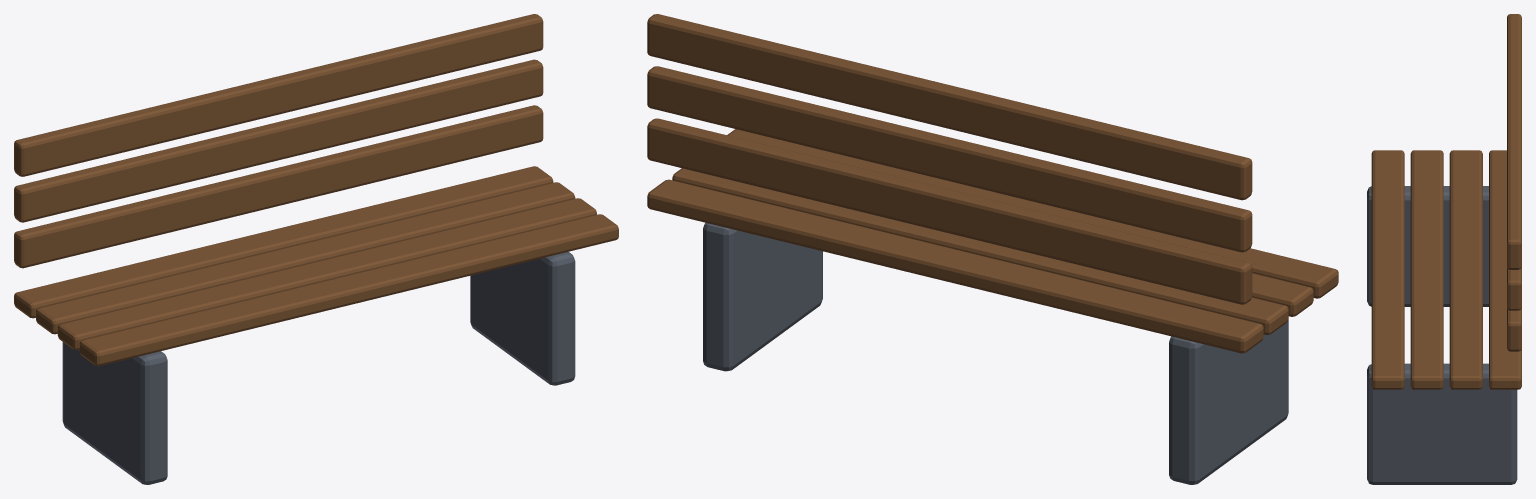
File: prop_bench.glb
3 views of the same model, side by side, from view 1: azimuth 30°, elevation 25°; view 2: azimuth 150°, elevation 25°; view 3: azimuth 270°, elevation 25° (orthographic). The views are drawn at different scales.
Visible parts, largest first — view 1: Back_2, Back_1, Back_0, Slat_0, Slat_1, Slat_2, Slat_3, Leg_0, Leg_1; view 2: Back_0, Back_1, Back_2, Slat_3, Leg_0, Leg_1, Slat_2, Slat_0, Slat_1; view 3: Leg_1, Slat_1, Slat_2, Slat_0, Slat_3, Back_2, Leg_0, Back_0, Back_1.
Part boxes in pixels (x1,y1,x2,y2): Back_2: (14,14,543,176); Back_1: (14,59,543,222); Back_0: (14,105,543,268); Slat_0: (79,214,618,366); Slat_1: (57,198,596,350); Slat_2: (36,182,575,334); Slat_3: (14,166,553,318); Leg_0: (62,342,167,484); Leg_1: (470,252,575,385); Back_0: (647,118,1252,304); Back_1: (647,66,1252,252); Back_2: (647,14,1252,200); Slat_3: (647,179,1263,353); Leg_0: (1169,319,1288,484); Leg_1: (703,222,822,371); Slat_2: (672,168,1288,334); Slat_0: (727,129,1338,298); Slat_1: (1252,273,1313,316); Leg_1: (1367,363,1517,484); Slat_1: (1410,150,1443,389); Slat_2: (1449,150,1482,389); Slat_0: (1371,150,1404,389); Slat_3: (1489,150,1521,389); Back_2: (1507,14,1521,269); Leg_0: (1367,186,1488,306); Back_0: (1507,308,1521,351); Back_1: (1507,267,1521,310).
Size of the model in its own units: 1.8 by 0.975 by 0.515.
